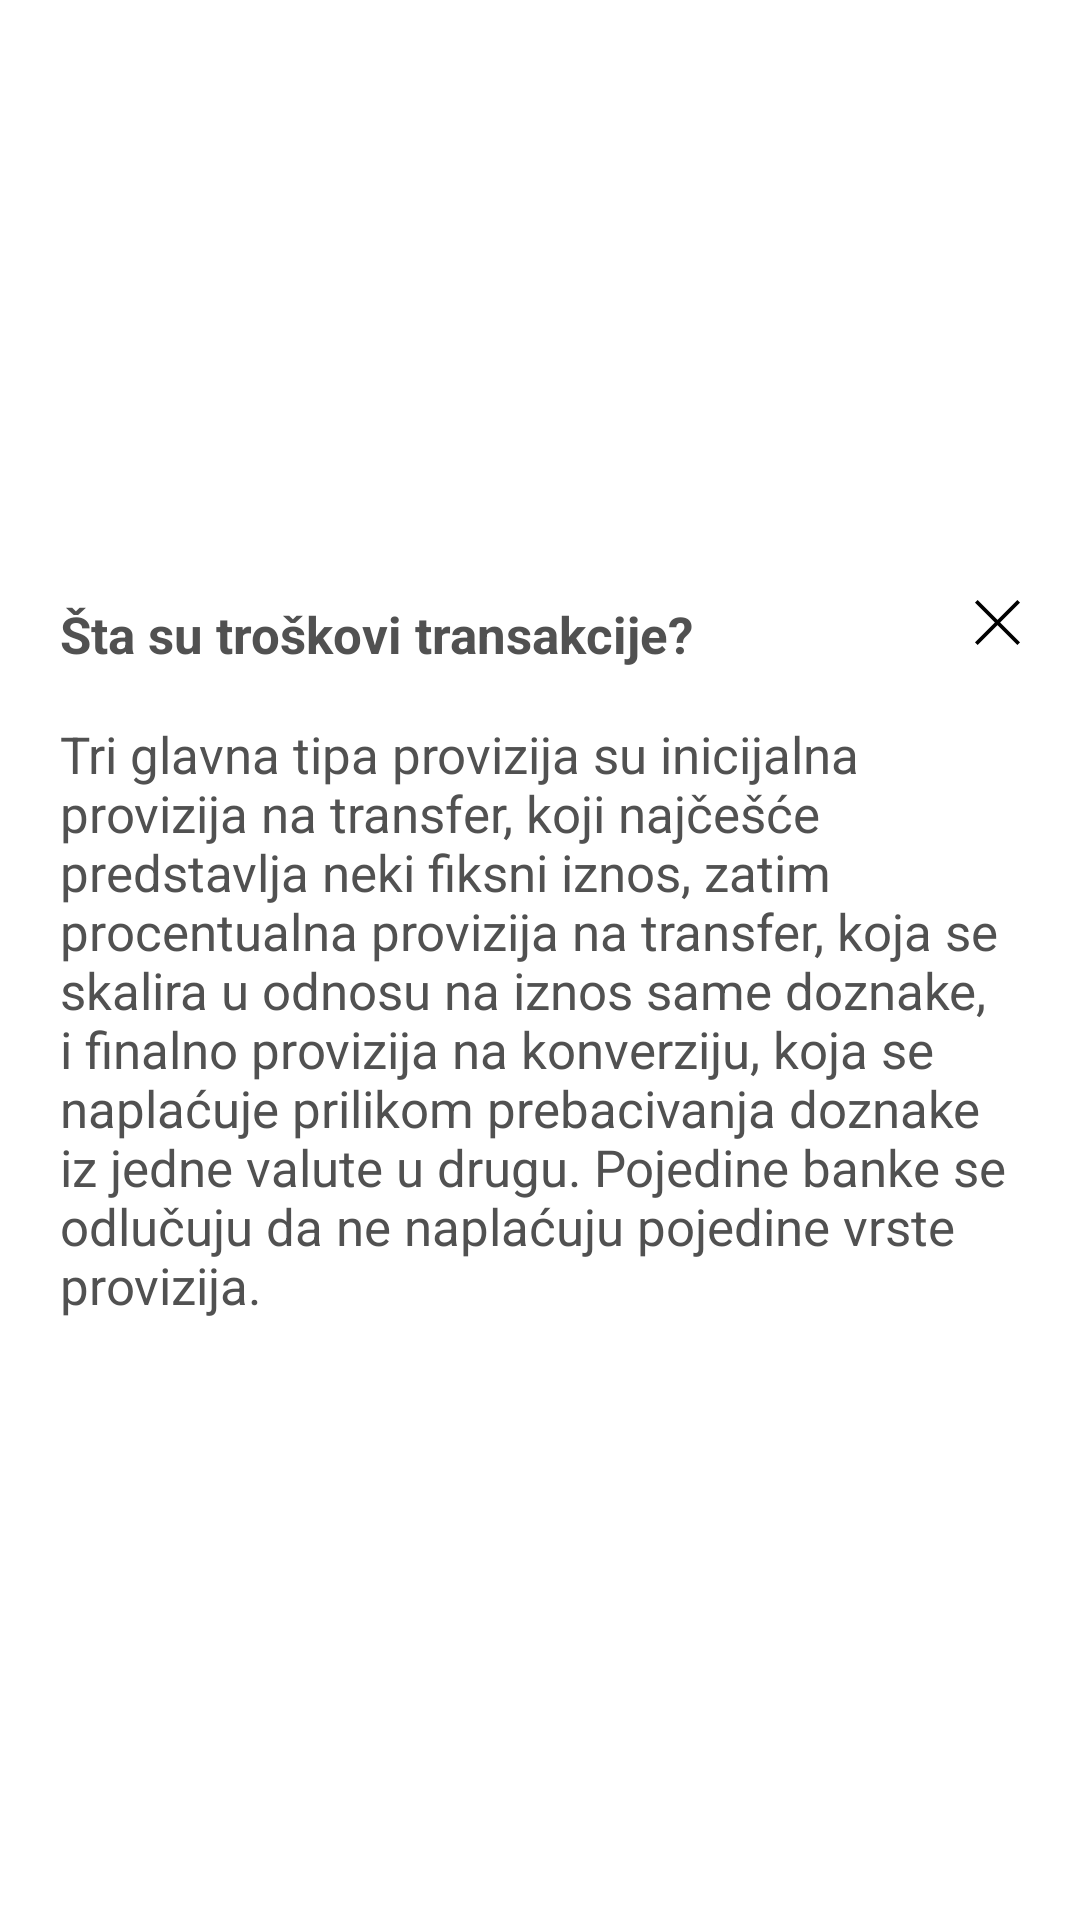

Point at icon controls on the screen. Image size 1080w x 1920h, points as [x,y].
close: [997,622]
